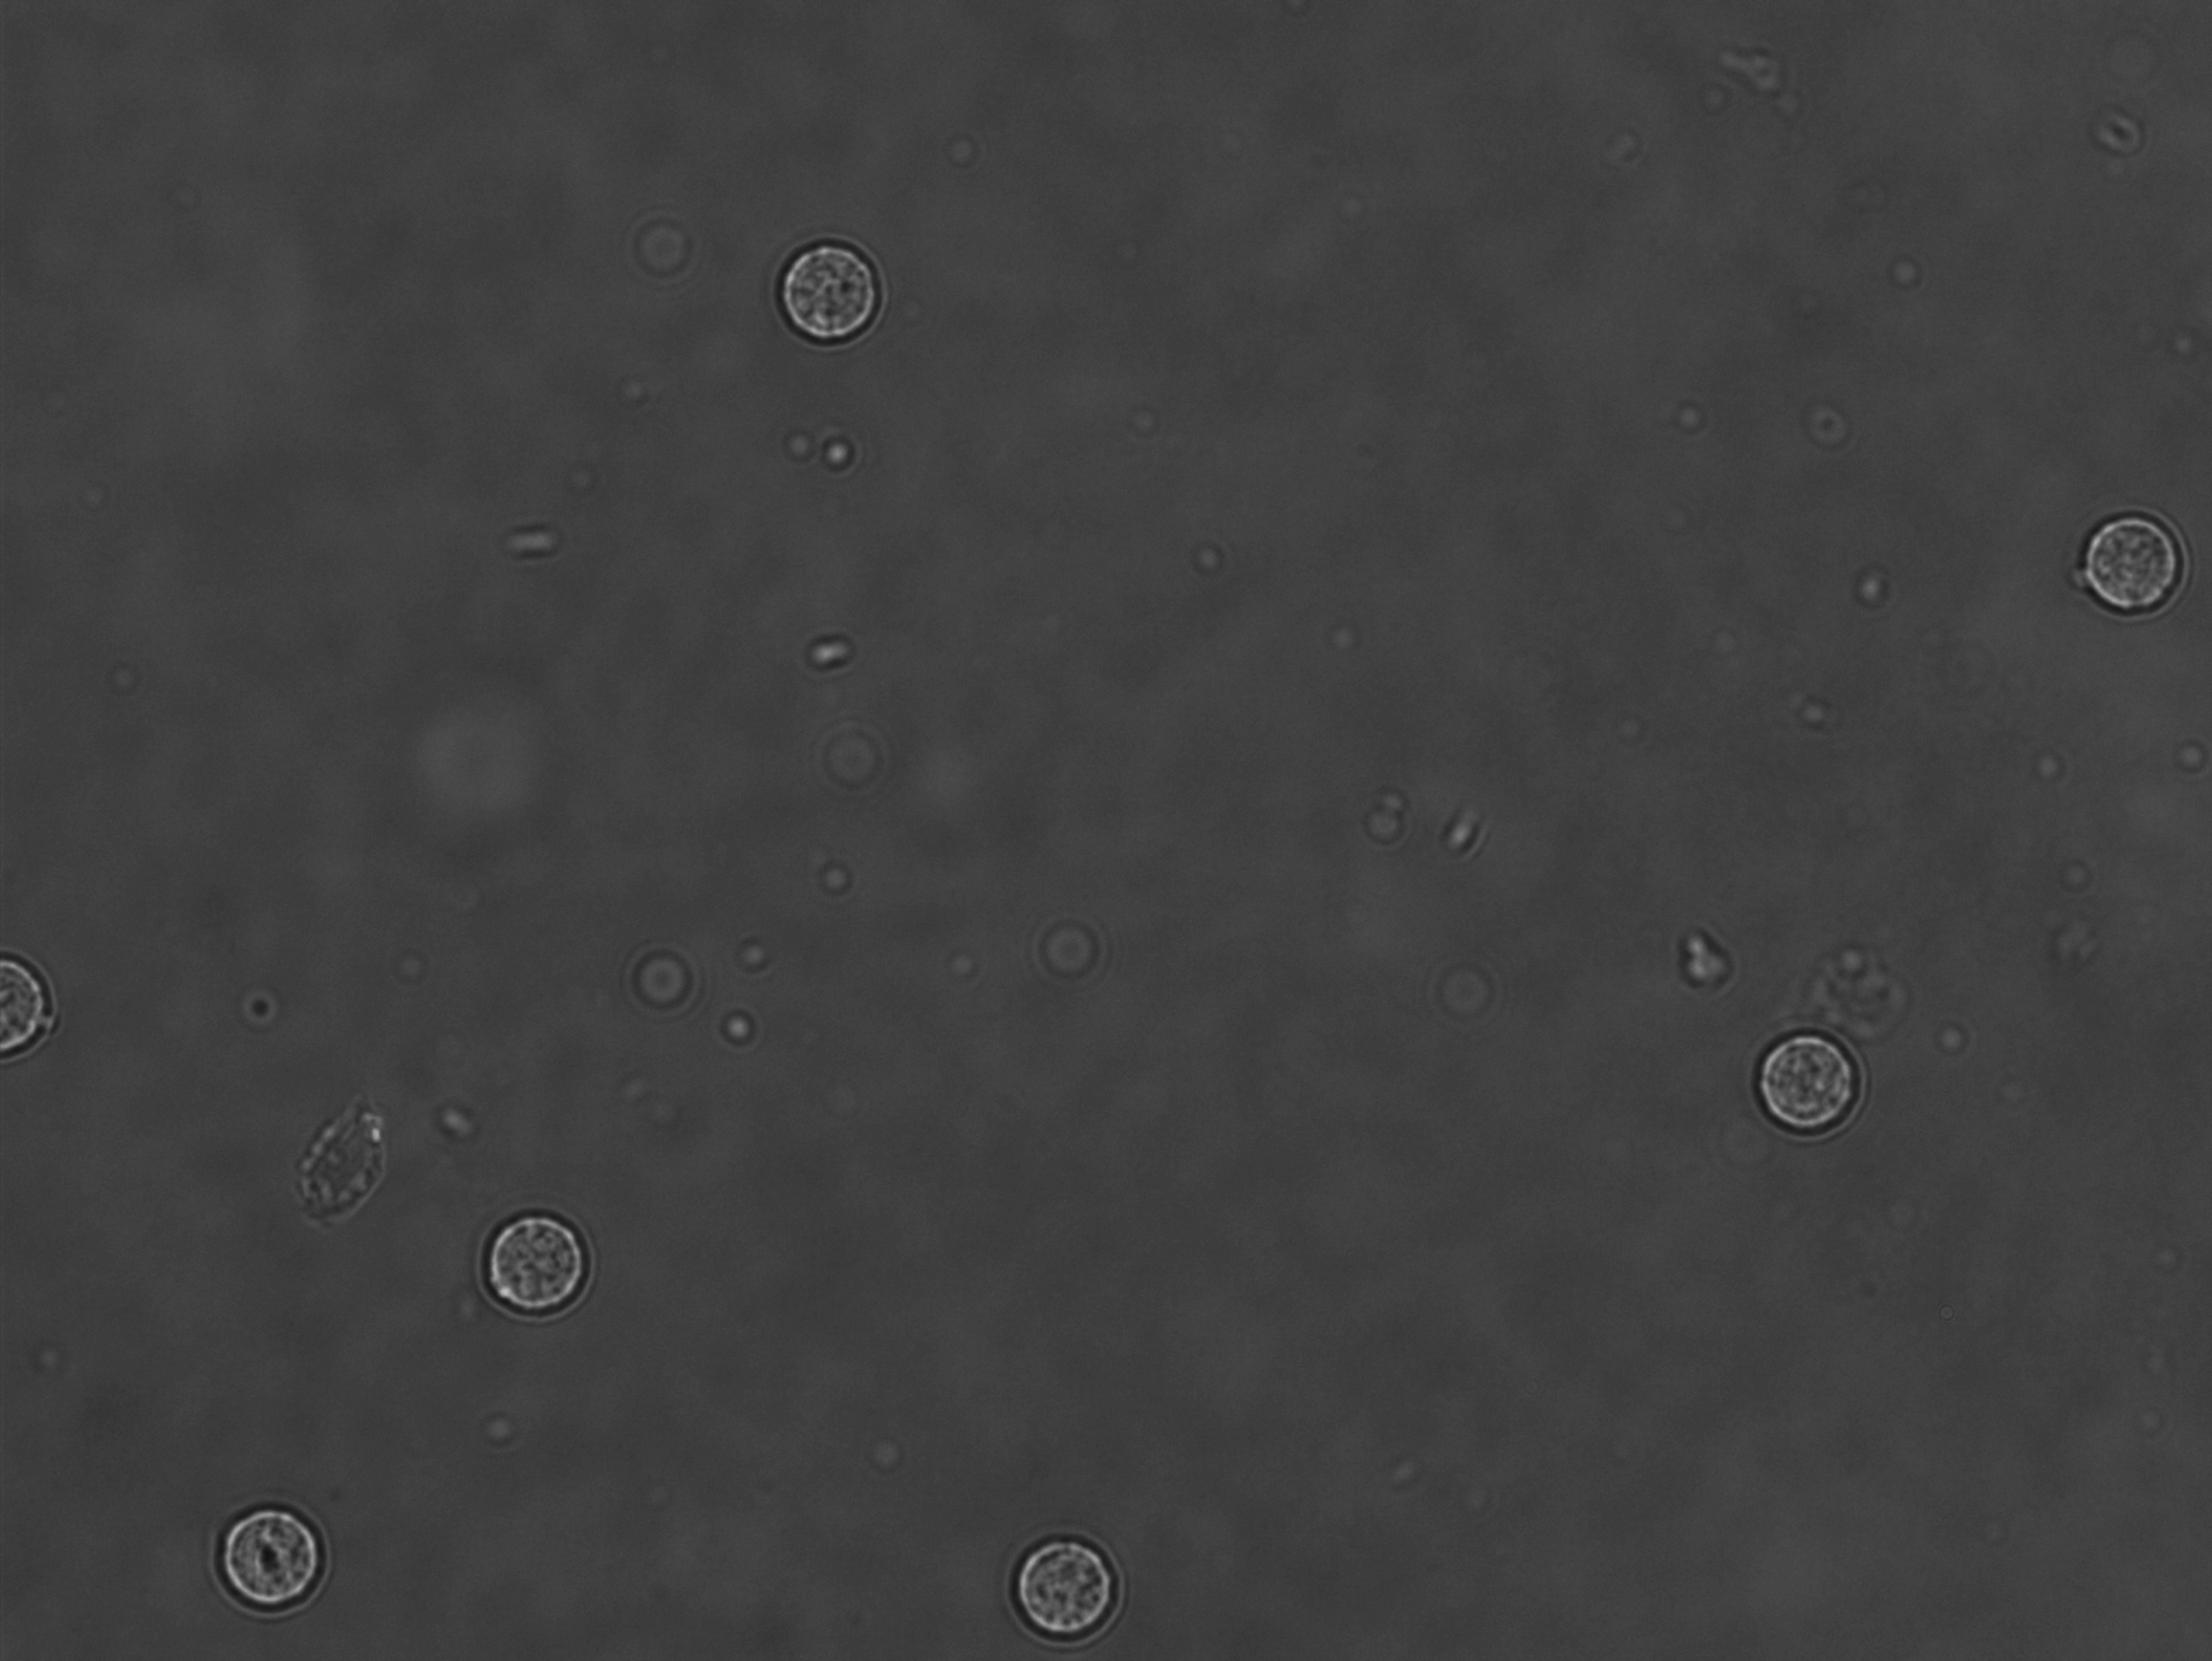depth:0: (2050, 466, 2212, 642), (211, 1480, 379, 1637), (984, 1509, 1165, 1654), (1734, 988, 1882, 1148), (755, 213, 909, 359), (468, 1190, 621, 1329)
